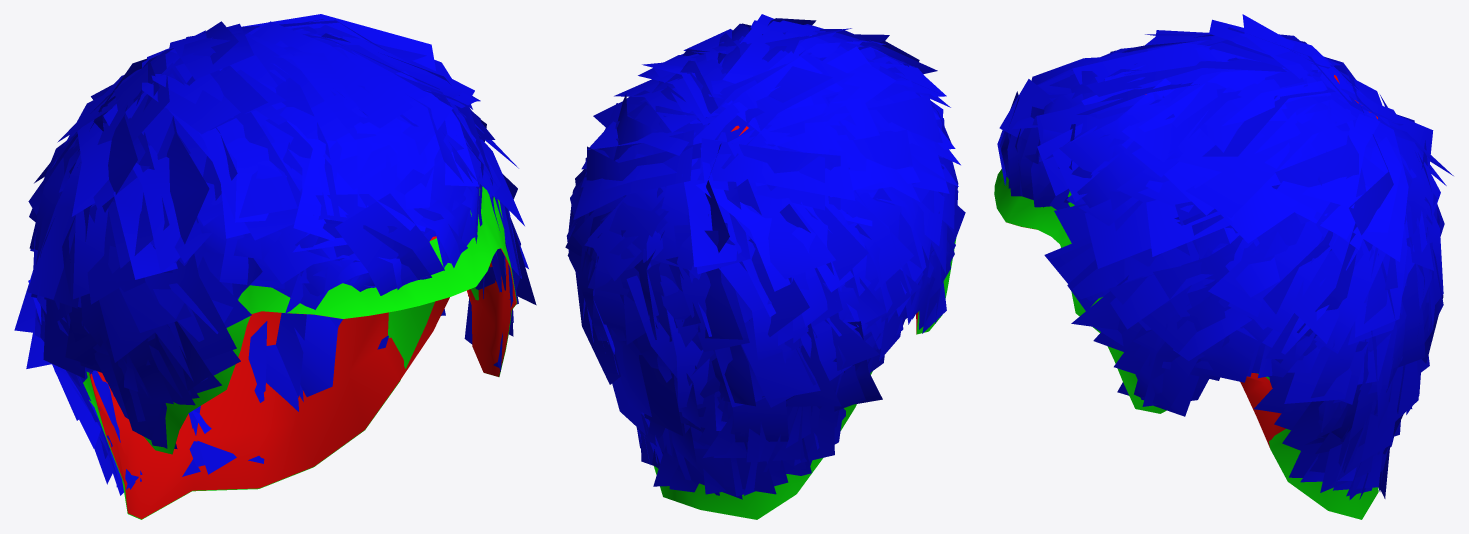
File: hair_010.obj
The picture shows the model from 3 angles, left to right: view 1: azimuth 30°, elevation 25°; view 2: azimuth 150°, elevation 25°; view 3: azimuth 270°, elevation 25°; orthographic projection. The views are drawn at different scales.
Size of the model in its own units: 18.22 by 21.06 by 19.38.
